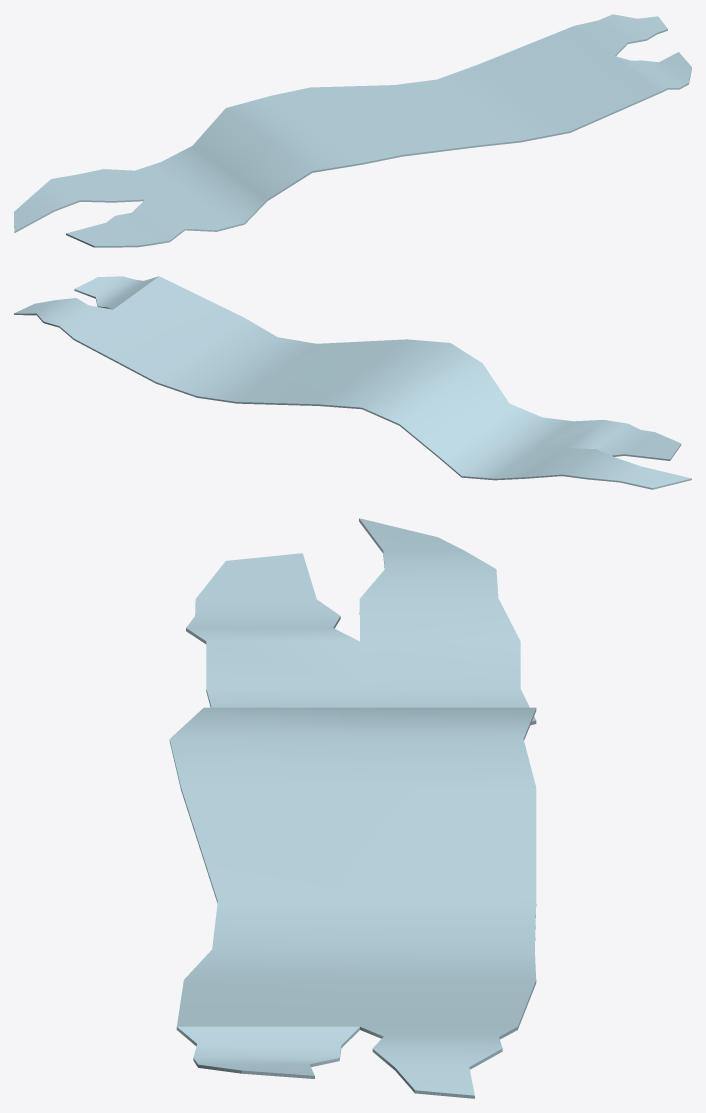
File: Tela.fbx
3 views of the same model, one above another, from view 1: azimuth 30°, elevation 25°; view 2: azimuth 150°, elevation 25°; view 3: azimuth 270°, elevation 25° (orthographic). The views are drawn at different scales.
Visible parts, largest first — view 1: Tela1; view 2: Tela1; view 3: Tela1.
Boxes of the visible parts, box(x1,y1,x2,y2) form: Tela1: box(14, 14, 691, 247); Tela1: box(14, 276, 691, 489); Tela1: box(169, 518, 536, 1098).
Size of the model in its own units: 4.25 by 0.2871 by 1.04.
